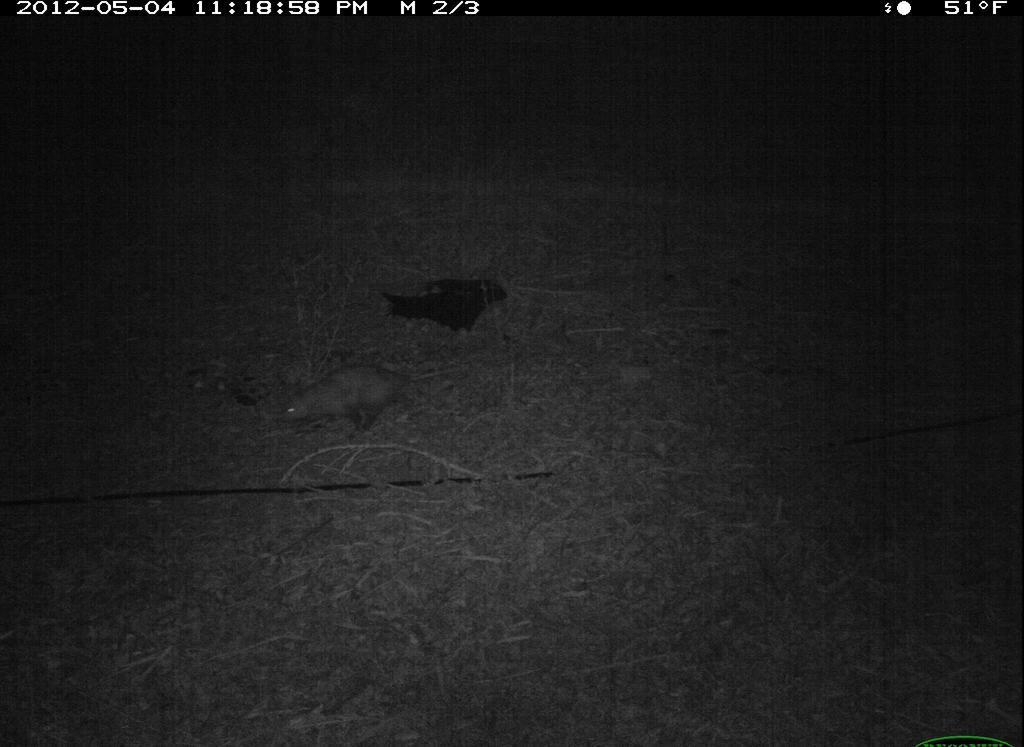opossum: (250, 360, 461, 449)
